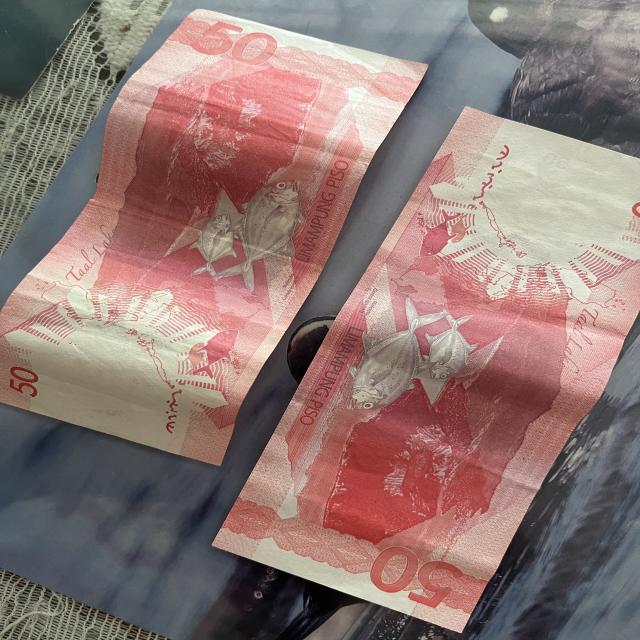50_maliputo: (340, 293, 470, 417), (188, 168, 303, 286)
50_maliputo_watermark: (177, 325, 242, 382), (415, 209, 484, 259)
value_watermark: (533, 150, 575, 177)
